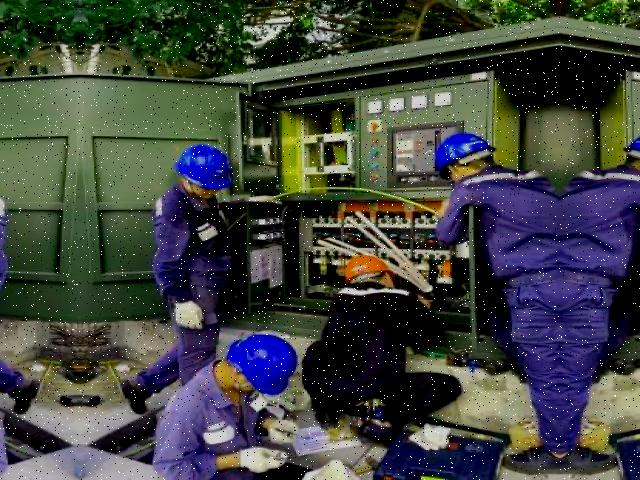Helmet: (221, 330, 301, 399), (172, 135, 234, 193), (428, 126, 498, 174), (336, 251, 394, 286)
